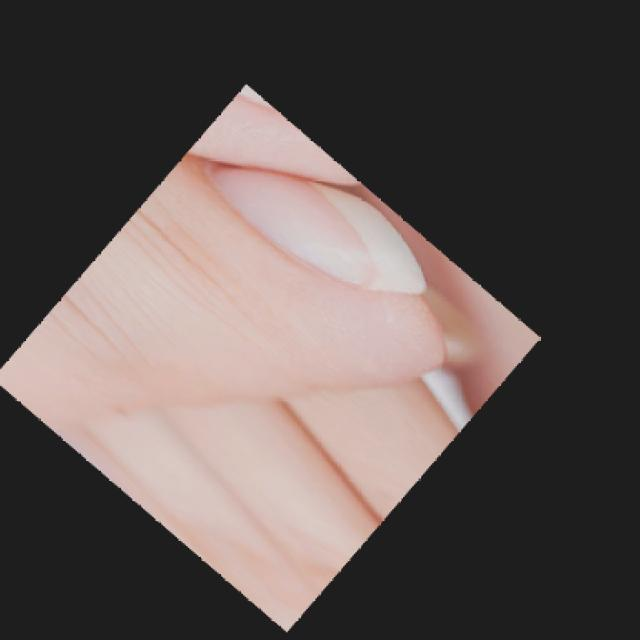Nail: (222, 166, 426, 293)
